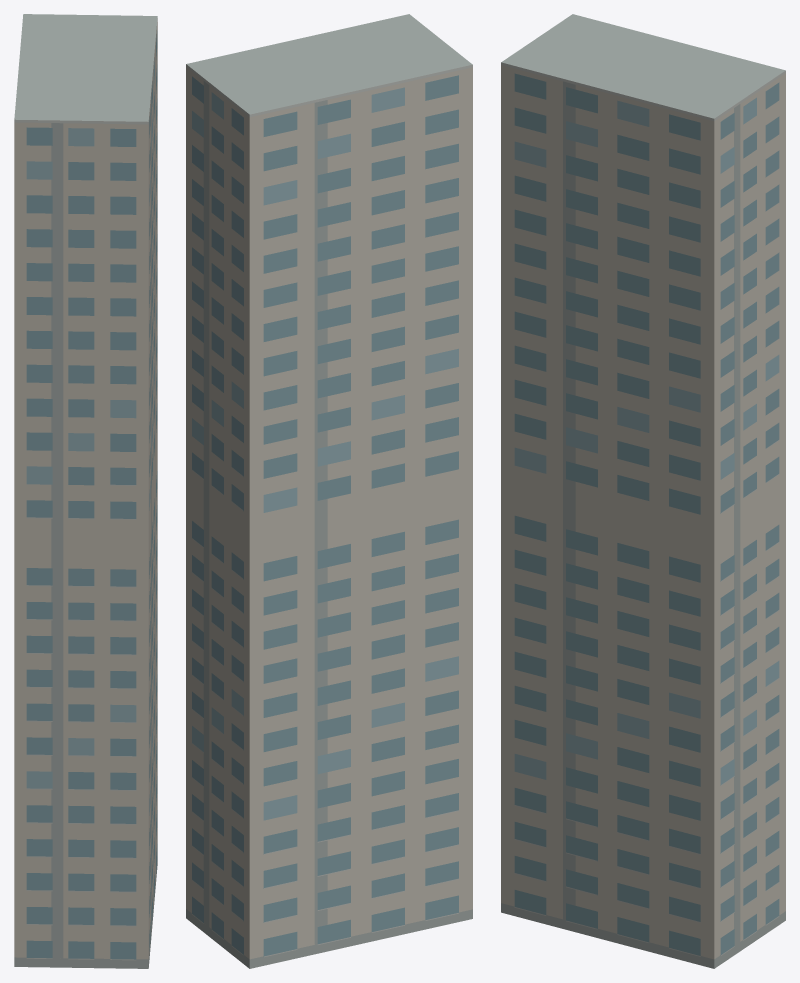
Rendered from residential-9b5bbeb7-771e-4dc4-adcc-b37033877bf2.glb.
The picture shows the model from 3 angles, left to right: view 1: azimuth 30°, elevation 25°; view 2: azimuth 150°, elevation 25°; view 3: azimuth 270°, elevation 25°; orthographic projection.
Parts seen in each view (by area): view 1: residential-9b5bbeb7-771e-4dc4-adcc-b37033877bf2.tmp; view 2: residential-9b5bbeb7-771e-4dc4-adcc-b37033877bf2.tmp; view 3: residential-9b5bbeb7-771e-4dc4-adcc-b37033877bf2.tmp.
Part boxes in pixels (bbox=[...]): residential-9b5bbeb7-771e-4dc4-adcc-b37033877bf2.tmp: bbox=[14, 14, 157, 968]; residential-9b5bbeb7-771e-4dc4-adcc-b37033877bf2.tmp: bbox=[186, 14, 472, 968]; residential-9b5bbeb7-771e-4dc4-adcc-b37033877bf2.tmp: bbox=[501, 14, 785, 968].
Bounding box in the file's own units: 20.35 × 77 × 23.38.
